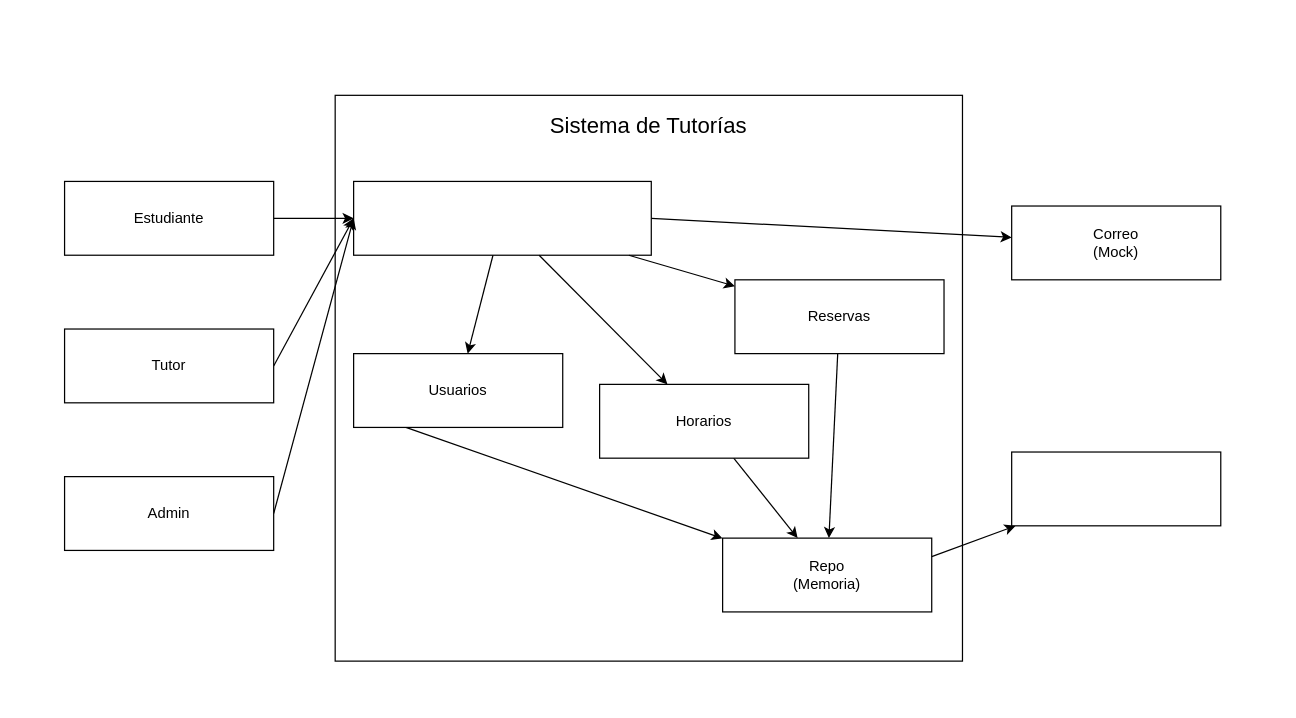
Image size: 1296x718. Some labels were removed from this diagram. Here are the shapes that lost their labels. From the top down, the centre of each, then its label:
point (501, 217): API (FastAPI)
point (1115, 488): BD (SQLite → Postgres)
